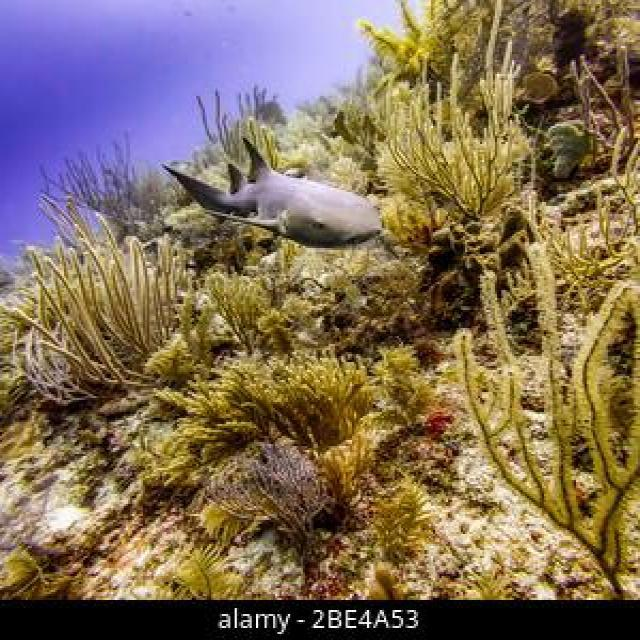Shark: (120, 108, 468, 272)
